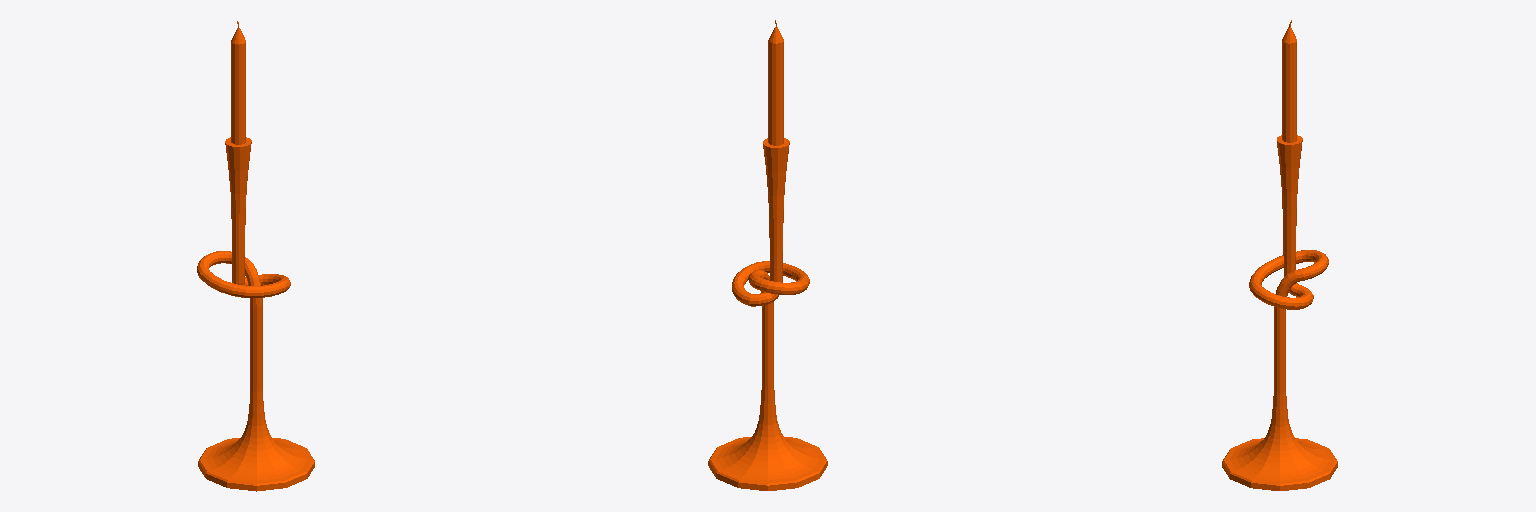
URDF robot description (Candle_bf7150430f5b5aa12f841233486fac2b):
<?xml version="1.0" ?>
<robot name="Candle_bf7150430f5b5aa12f841233486fac2b">
   <material name="obj_color">
      <color rgba="1.0 0.423529411765 0.0392156862745 1.0"/>
   </material>
   <link name="top">
      <inertial>
         <origin rpy="2.766413265004856e-06 2.884207650415136e-05 2.914918084859798e-05" xyz="-3.684082912485173e-05 -0.0004068900462058313 -0.006810127214942156"/>
         <mass value="0.03750702671704044"/>
         <inertia ixx="2.891414945417058e-05" ixy="1.830339596497707e-07" ixz="1.090298476662219e-06" iyy="2.900654461096884e-05" iyz="-8.039136411543572e-07" izz="2.836976552614782e-06"/>
      </inertial>
      <visual>
         <origin rpy="0 0 0" xyz="0 0 0"/>
         <geometry>
            <mesh filename="top_watertight_tiny.stl" scale="1 1 1"/>
         </geometry>
         <material name="obj_color"/>
      </visual>
      <collision>
         <origin rpy="0 0 0" xyz="0 0 0"/>
         <geometry>
            <mesh filename="top_watertight_tiny.obj" scale="1 1 1"/>
         </geometry>
      </collision>
   </link>
   <link name="bottom">
      <inertial>
         <origin rpy="1.633333333199431e-08 1.633333333199431e-08 1.633333333362855e-08" xyz="0.3464080000000008 0.3464080000000008 0.3464080000000008"/>
         <mass value="0.0009800000000000017"/>
         <inertia ixx="1.633333333253906e-08" ixy="5.447480642029219e-19" ixz="5.447480642029219e-19" iyy="1.633333333253906e-08" iyz="5.447480642029219e-19" izz="1.633333333253906e-08"/>
      </inertial>
      <visual>
         <origin rpy="0 0 0" xyz="0 0 0"/>
         <geometry>
            <mesh filename="bottom_watertight_tiny.stl" scale="1 1 1"/>
         </geometry>
         <material name="obj_color"/>
      </visual>
   </link>
   <joint name="rotation" type="revolute">
      <origin xyz="0 0 0"/>
      <axis xyz="0 0 -1"/>
      <parent link="bottom"/>
      <child link="top"/>
      <dynamics damping="1.0" friction="1.0"/>
      <limit effort="0.1" velocity="0.1" lower="0" upper="0.001"/>
   </joint>
</robot>

--- Facts derived from the render (not from the file) ---
3 views of the same robot in one strip: view 1: azimuth 30°, elevation 25°; view 2: azimuth 150°, elevation 25°; view 3: azimuth 270°, elevation 25° (orthographic).
Robot: Candle_bf7150430f5b5aa12f841233486fac2b — 2 links, 1 joints (1 revolute); root link bottom; default pose: all joints at 0.
Links seen in each view (by area): view 1: top; view 2: top; view 3: top.
Link boxes in pixels (x1,y1,x2,y2): top: (197, 21, 314, 491); top: (708, 20, 827, 490); top: (1222, 20, 1337, 490).
Size in the robot's own frame: 0.0304 by 0.0304 by 0.1277 metres.
1 mesh visuals loaded from 2 distinct referenced files (1 binary STL); not drawn: 1 (reference not matched to a file when rendering).
